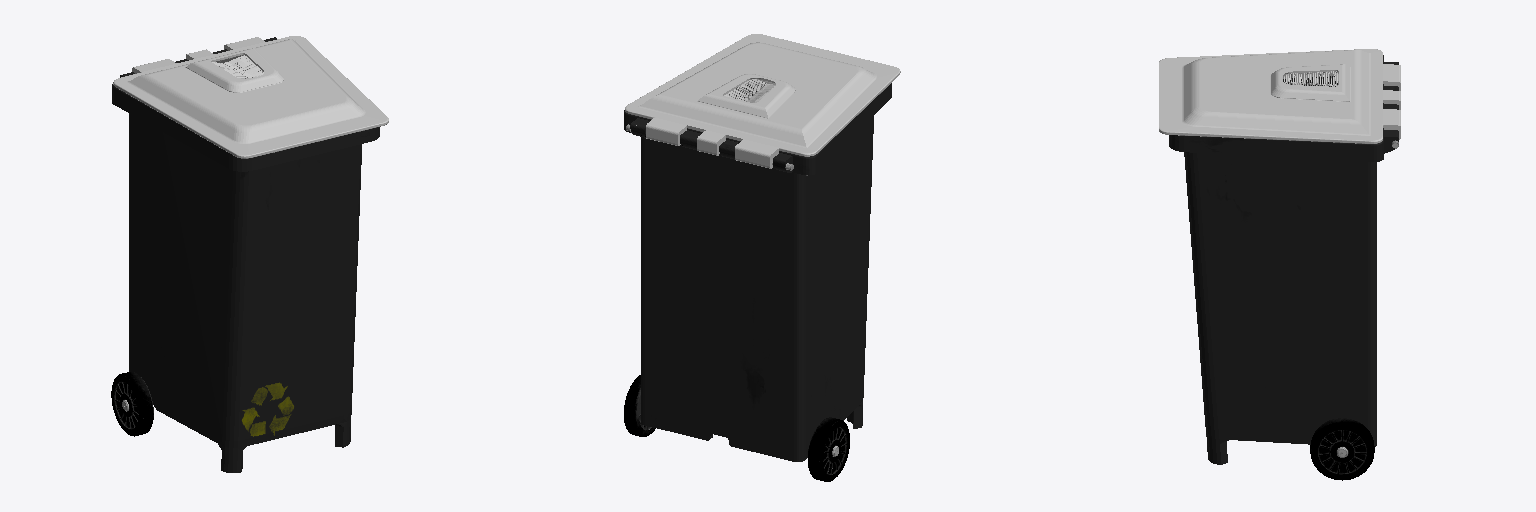
The picture shows the model from 3 angles: view 1: azimuth 30°, elevation 25°; view 2: azimuth 150°, elevation 25°; view 3: azimuth 270°, elevation 25°; orthographic projection.
Parts seen in each view (by area): view 1: Trash, Trash_Cover; view 2: Trash, Trash_Cover; view 3: Trash, Trash_Cover.
Boxes of the visible parts, <box> form: Trash: <box>111,37,379,472</box>; Trash_Cover: <box>113,36,388,158</box>; Trash: <box>624,83,891,481</box>; Trash_Cover: <box>625,34,900,168</box>; Trash: <box>1169,55,1398,480</box>; Trash_Cover: <box>1159,49,1400,143</box>.
Size of the model in its own units: 1.34 by 2.27 by 1.41.
Materials: 2 (1 with a texture image).